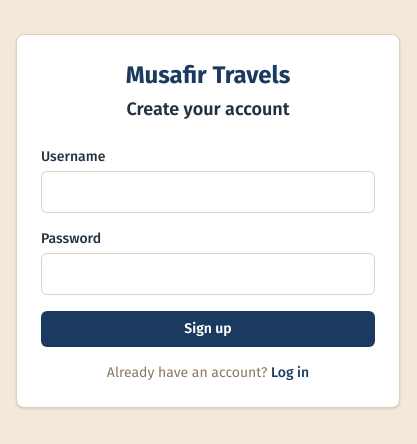
Scenario: auth pages › shows signup errors such as a taken username
Type "asha" into the field labelled "Username".
click(208, 192); type("asha")  # box [41,171,375,213]
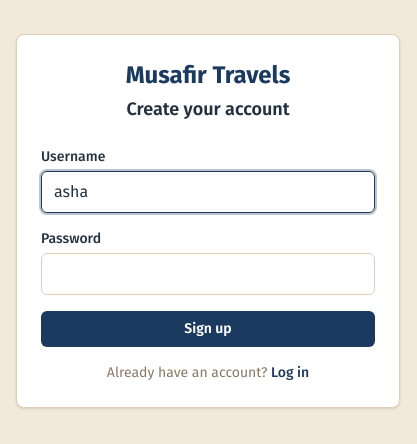
Type "pw" into the password field labelled "Password".
click(208, 274); type("pw")  # box [41,253,375,295]
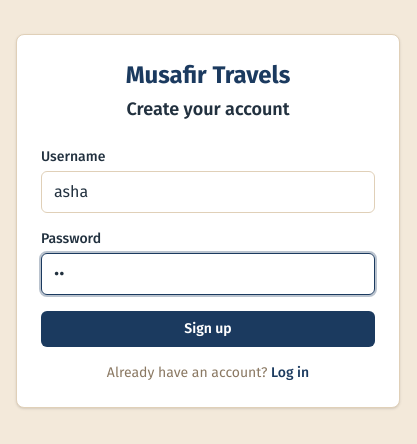
Click the button "Sign up".
click(208, 329)  # box [41,311,375,347]
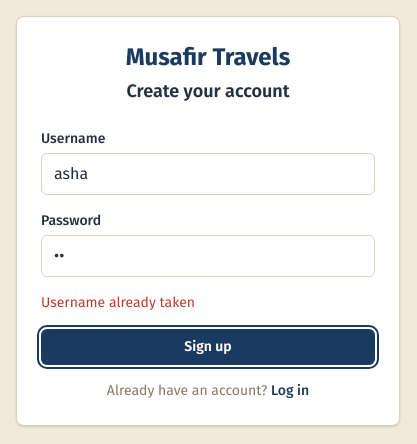
Check: the text "Username already taken" is shown, box [41,294,195,311]
